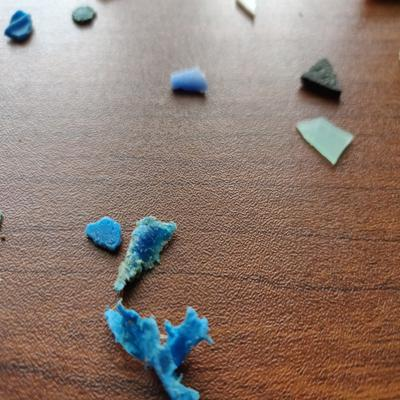plastic: (96, 293, 213, 400), (292, 109, 362, 185), (113, 213, 180, 292), (298, 53, 350, 101), (81, 207, 122, 253), (163, 64, 212, 102), (1, 10, 39, 46), (71, 6, 98, 30)
